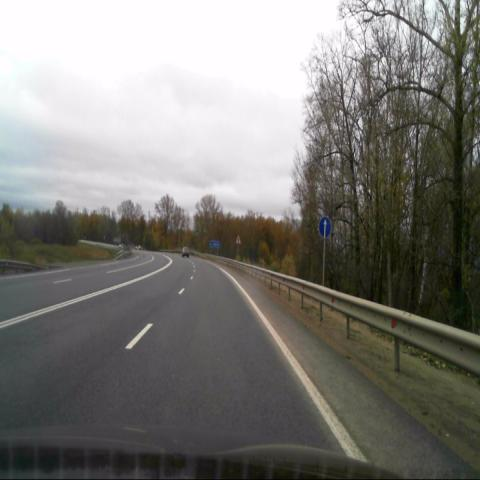4_1_1: (318, 215, 332, 238)
